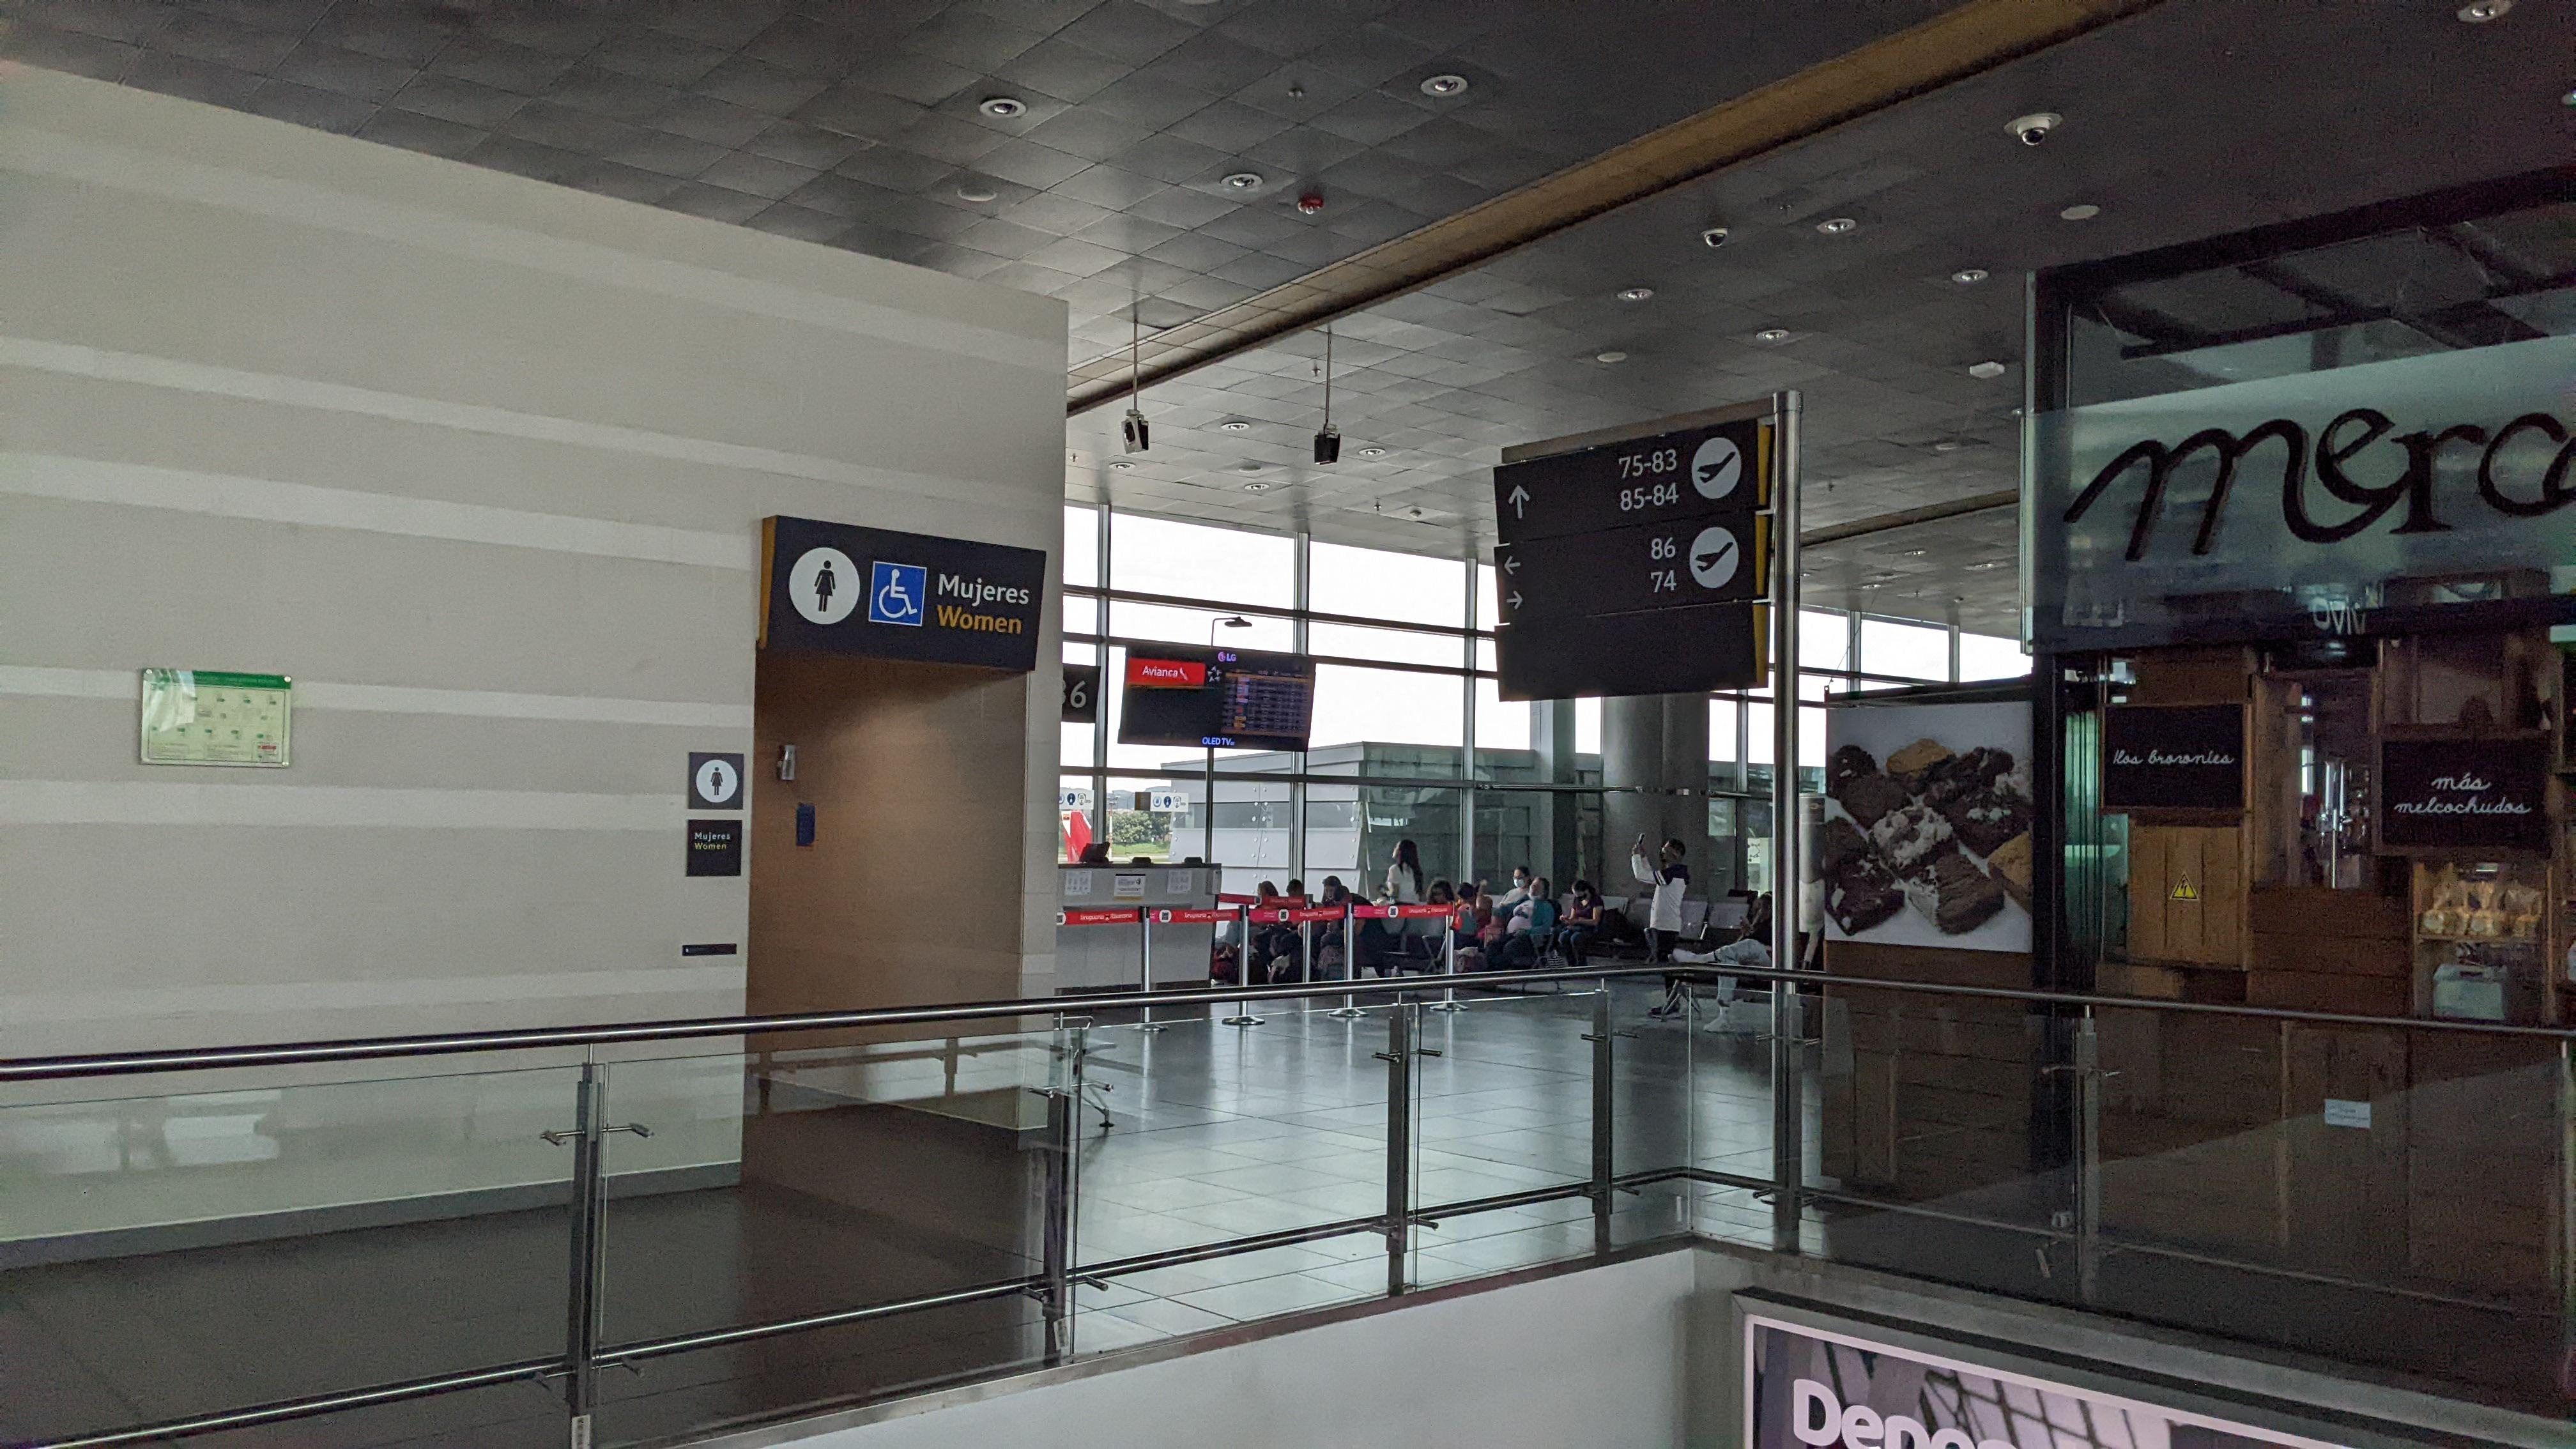airplane symbol: (1695, 449, 1737, 485), (1695, 540, 1734, 575)
handicapped symbol: (878, 568, 918, 621)
left arrow: (1504, 554, 1522, 577)
right arrow: (1504, 589, 1525, 610)
up arrow: (1504, 483, 1532, 520)
